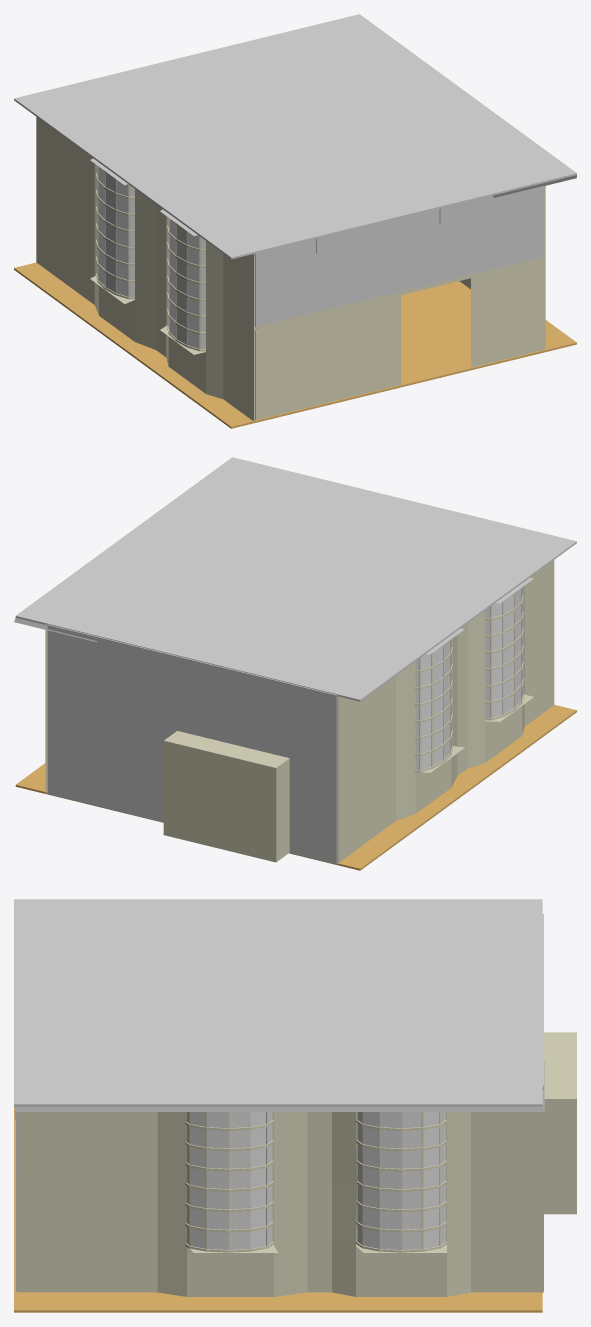
File: FIREPLACE.fbx
The picture shows the model from 3 angles, top to bottom: view 1: azimuth 30°, elevation 25°; view 2: azimuth 150°, elevation 25°; view 3: azimuth 270°, elevation 25°; orthographic projection. The views are drawn at different scales.
Parts seen in each view (by area): view 1: Cube.014, Cube.013, Cube.011, Cube.015, Circle.007, Circle.004, Cube.012, Cube.009; view 2: Cube.014, Cube.003, Cube.011, Cube.002, Cube.015, Circle.007, Circle.004, Cube.012, Cube.009; view 3: Cube.014, Cube.018, Cube.015, Circle.000, Circle.002, Cube.002, Cube.004, Cube.006, Cube.003.
Part boxes in pixels (x1,y1,x2,y2): Cube.014: (14, 14, 576, 259); Cube.013: (253, 186, 543, 420); Cube.011: (36, 117, 257, 420); Cube.015: (14, 262, 576, 428); Circle.007: (168, 217, 205, 348); Circle.004: (97, 165, 134, 296); Cube.012: (167, 217, 205, 351); Cube.009: (96, 165, 134, 299); Cube.014: (14, 457, 576, 701); Cube.003: (47, 624, 337, 864); Cube.011: (337, 560, 554, 862); Cube.002: (163, 731, 289, 862); Cube.015: (15, 705, 576, 870); Circle.007: (485, 587, 522, 718); Circle.004: (415, 639, 451, 770); Cube.012: (485, 586, 523, 720); Cube.009: (414, 638, 452, 772); Cube.014: (14, 899, 544, 1111); Cube.018: (17, 1086, 543, 1296); Cube.015: (14, 1107, 542, 1312); Circle.000: (357, 1112, 445, 1249); Circle.002: (187, 1112, 272, 1249); Cube.002: (544, 1032, 576, 1214); Cube.004: (356, 1112, 446, 1252); Cube.006: (185, 1112, 273, 1252); Cube.003: (542, 913, 543, 1291).
Bounding box in the file's own units: 9.83 × 4.65 × 11.38.
